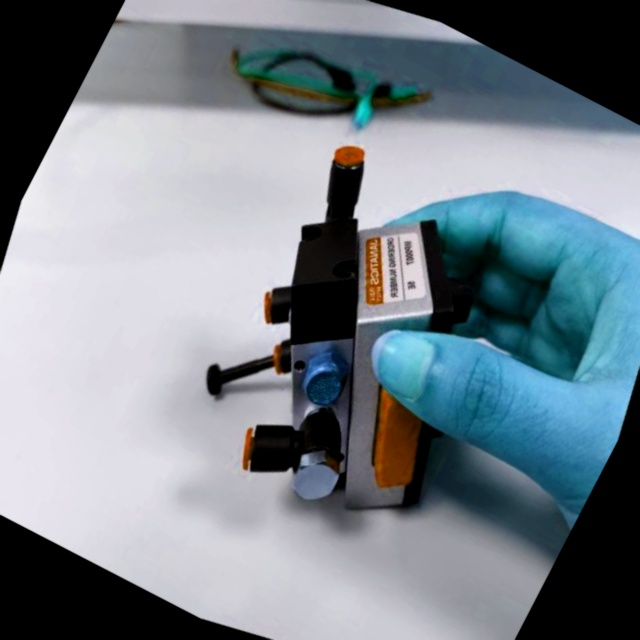5by2 DCV: (105, 60, 587, 586)
